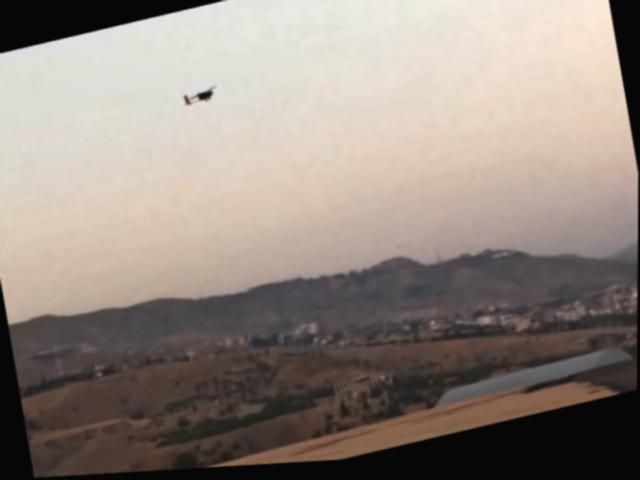uav: (173, 78, 226, 116)
